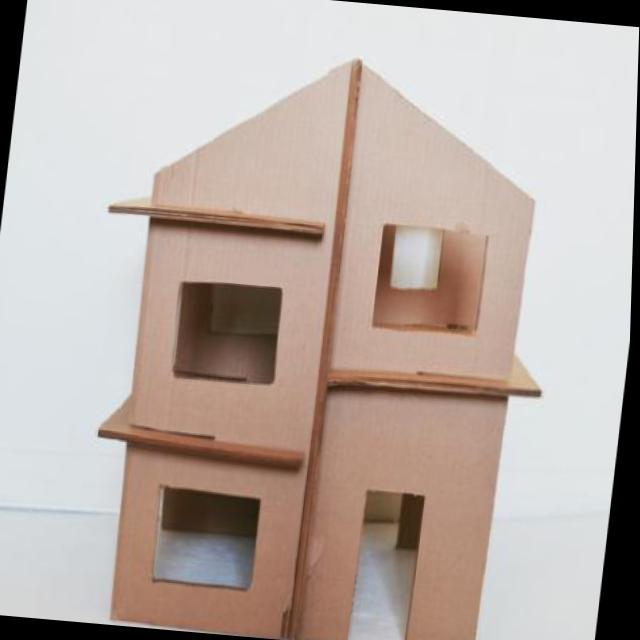box: (58, 27, 588, 640)
